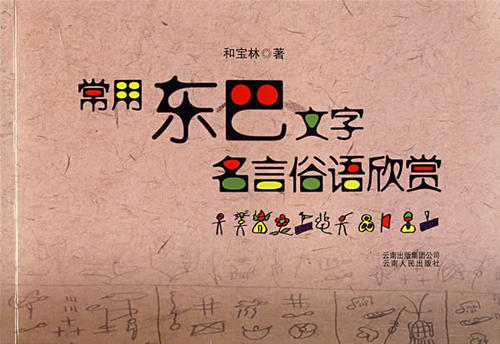chinese: (151, 72, 363, 147), (209, 149, 446, 197), (311, 240, 475, 277), (73, 72, 145, 114), (370, 246, 445, 270), (221, 41, 286, 66)
naxi: (10, 286, 498, 341), (213, 204, 441, 241)
